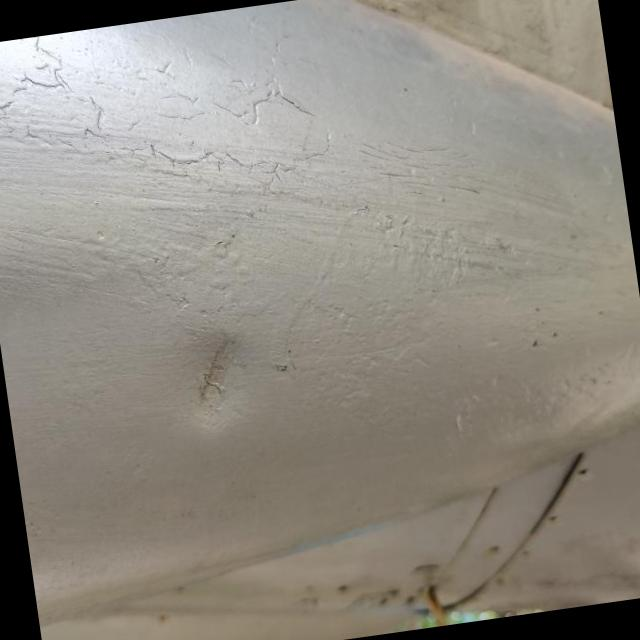Dent: (150, 314, 278, 439)
